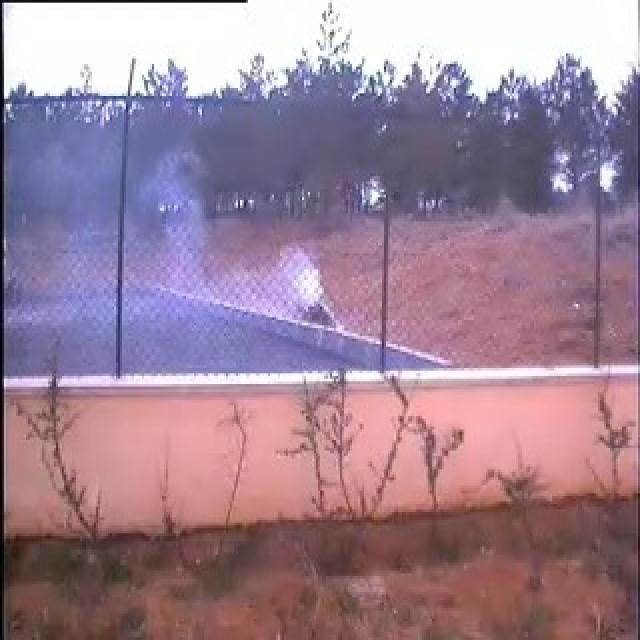smoke: (124, 116, 388, 371)
